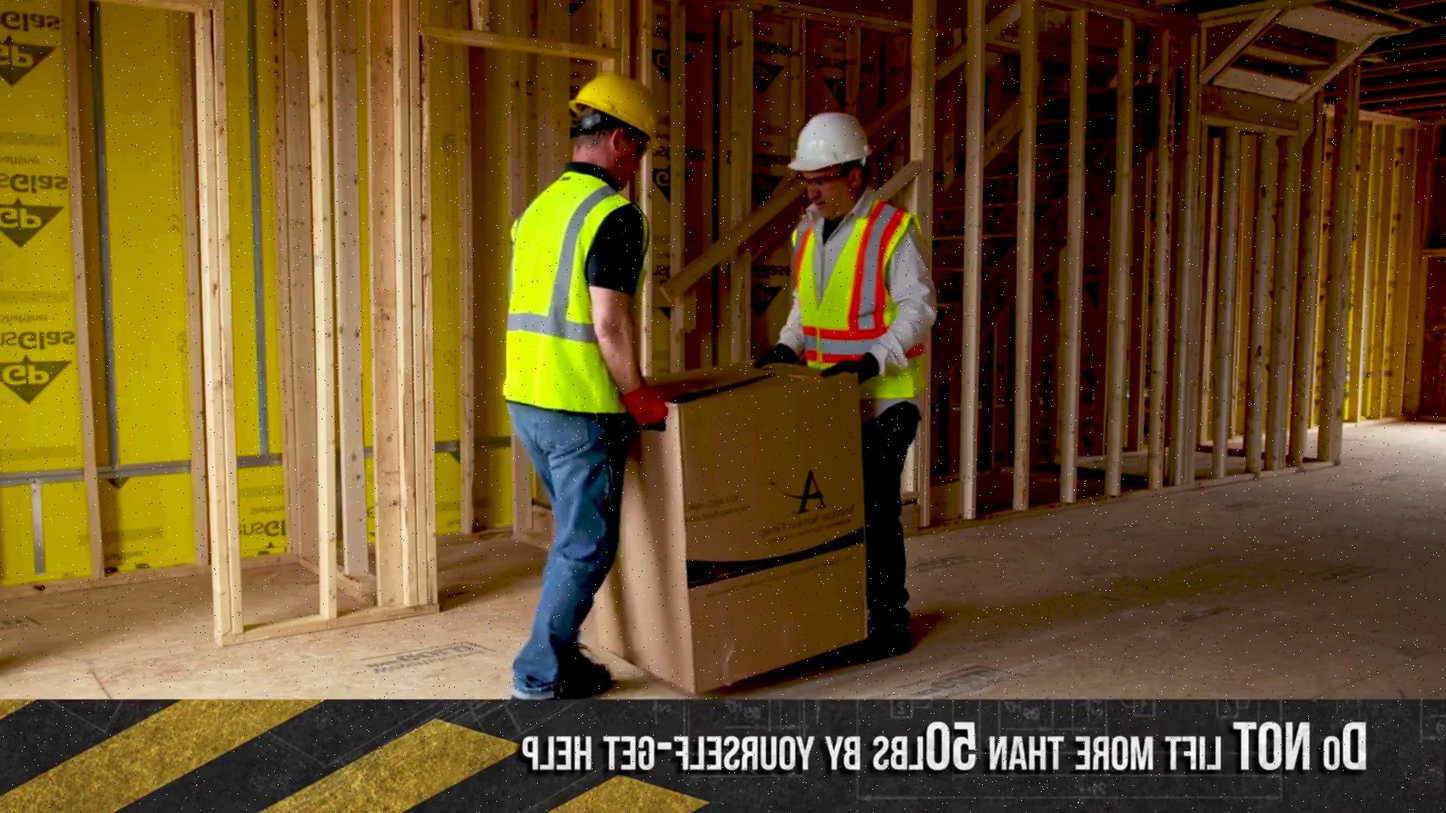Hard_hat: (573, 73, 675, 143), (788, 108, 873, 169)
Vest: (784, 199, 912, 403)
